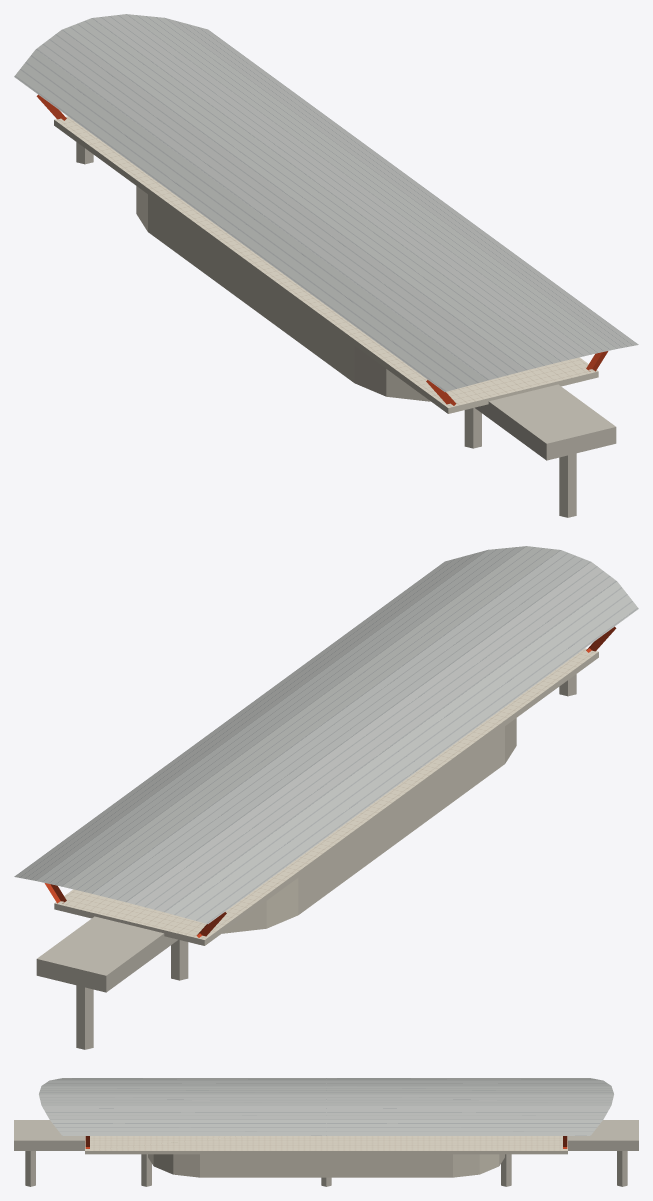
File: orange_line_station_far.glb
The picture shows the model from 3 angles, top to bottom: view 1: azimuth 30°, elevation 25°; view 2: azimuth 150°, elevation 25°; view 3: azimuth 270°, elevation 25°; orthographic projection. The views are drawn at different scales.
Visible parts, largest first — view 1: m_olm_roof, m_olm_face, m_olm_concrete, m_olm_floor; view 2: m_olm_roof, m_olm_face, m_olm_concrete, m_olm_floor; view 3: m_olm_roof, m_olm_face, m_olm_floor, m_olm_concrete.
Part boxes in pixels (x1,y1,x2,y2): m_olm_roof: [14, 14, 638, 391]; m_olm_face: [54, 120, 598, 413]; m_olm_concrete: [76, 142, 616, 517]; m_olm_floor: [54, 116, 598, 407]; m_olm_roof: [14, 546, 638, 923]; m_olm_face: [54, 652, 598, 945]; m_olm_concrete: [36, 674, 576, 1049]; m_olm_floor: [54, 648, 598, 939]; m_olm_roof: [39, 1078, 613, 1135]; m_olm_face: [85, 1151, 567, 1177]; m_olm_floor: [85, 1136, 567, 1150]; m_olm_concrete: [14, 1120, 638, 1186].
Bounding box in the file's own units: 29 × 21 × 132.
Materials: 5 (2 with a texture image).
